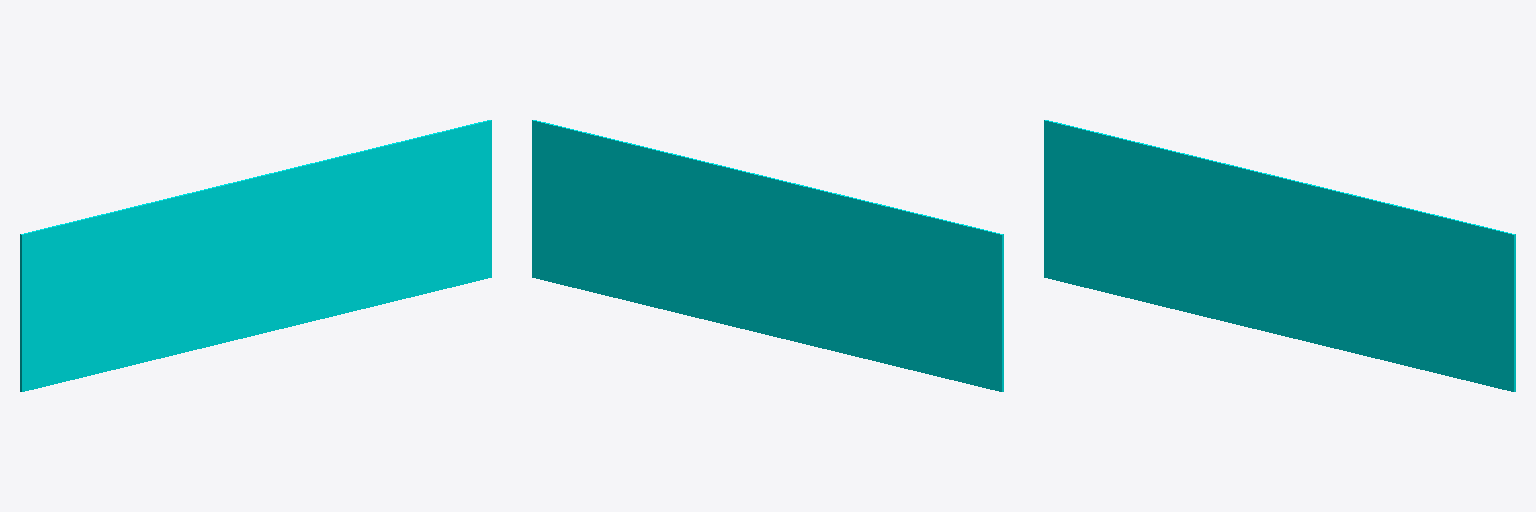
robot.urdf — ball:
<?xml version="0.0" ?>
<robot name="ball">
    <link name="wall">
        <contact>
            <lateral_friction value="1"/>
        </contact>

        <inertial>
            <origin xyz="0 0 0" rpy="0 0 0"/>
            <mass value="0.0"/>
            <inertia ixx="0"  ixy="0"  ixz="0" iyy="0" iyz="0" izz="0" />
        </inertial>

        <visual>
            <origin xyz="0 0 0" rpy="0 0 0" />
            <geometry>
                <box size="2.5 0.01 0.8" />
            </geometry>
            <material name="Cyan">
                <color rgba="0 1.0 1.0 1.0"/>
            </material>
        </visual>

        <collision>
            <origin xyz="0 0 0" rpy="0 0 0"/>
            <geometry>
                <box size="2.5 0.01 0.8" />
            </geometry>
        </collision>
    </link>
</robot>

--- Facts derived from the render (not from the file) ---
Views: 3 orthographic renders of the robot side by side, from view 1: azimuth 30°, elevation 25°; view 2: azimuth 150°, elevation 25°; view 3: azimuth 330°, elevation 25°.
Model ball with 1 links and 0 joints (none), rooted at wall, posed every joint at zero.
Links seen in each view (by area): view 1: wall; view 2: wall; view 3: wall.
Boxes of the visible links, box(x1,y1,x2,y2) form: wall: box(20, 120, 491, 391); wall: box(532, 120, 1003, 391); wall: box(1044, 120, 1515, 391).
Bounding box of the posed robot: 2.5 × 0.01 × 0.8 m (x, y, z).
Geometry: primitives only (box / cylinder / sphere), no mesh files.